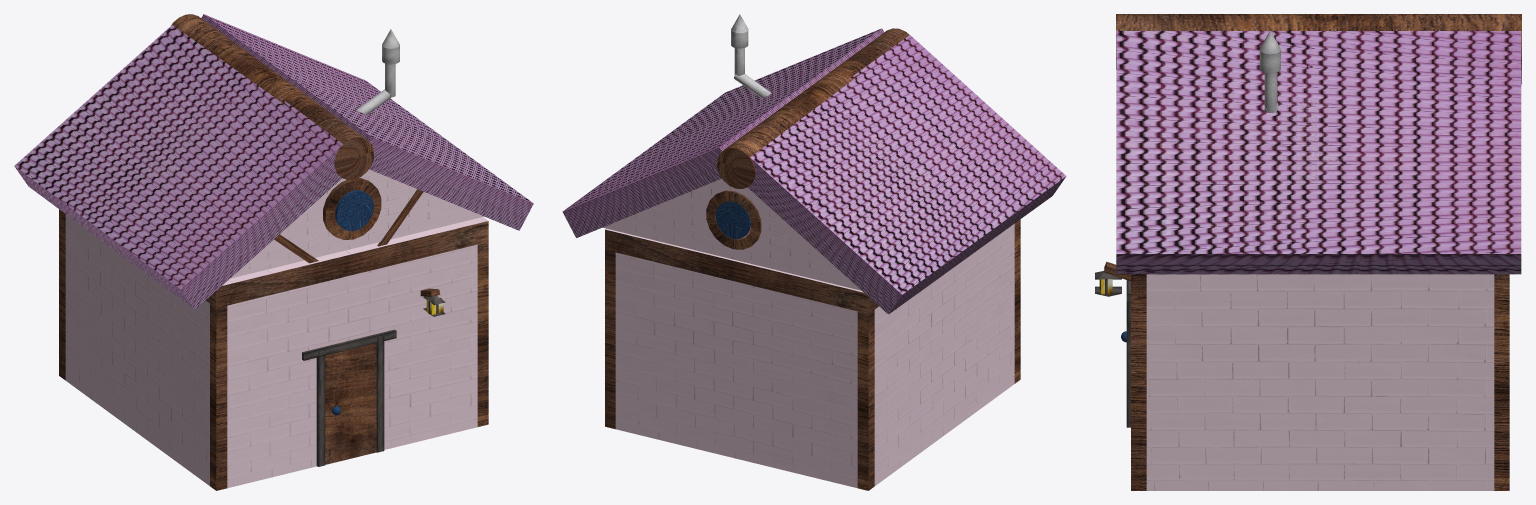
The model's file is CASA_HECHIZOS_NIVEL_1.fbx.
The picture shows the model from 3 angles, left to right: view 1: azimuth 30°, elevation 25°; view 2: azimuth 150°, elevation 25°; view 3: azimuth 270°, elevation 25°; orthographic projection. The views are drawn at different scales.
Visible parts, largest first — view 1: Box001, Box004, Box003, Box002, Box005, Cylinder002, Tube002, Cylinder001, Box007, Box006, Box008; view 2: Box001, Box004, Box003, Box002, Cylinder002, Tube001, Cylinder001; view 3: Box003, Box001, Cylinder002, Box006, Cylinder004.
Part boxes in pixels (box(x1,y1,x2,y2)): Box001: box(59, 209, 488, 490); Box004: box(14, 25, 357, 309); Box003: box(201, 14, 533, 230); Box002: box(230, 169, 483, 278); Box005: box(325, 343, 376, 464); Cylinder002: box(171, 14, 373, 179); Tube002: box(323, 178, 381, 239); Cylinder001: box(335, 190, 373, 231); Box007: box(316, 350, 325, 466); Box006: box(376, 336, 384, 452); Box008: box(302, 329, 396, 360); Box001: box(605, 219, 1020, 490); Box004: box(748, 35, 1066, 314); Box003: box(562, 28, 884, 237); Box002: box(603, 178, 861, 290); Cylinder002: box(717, 28, 909, 188); Tube001: box(706, 190, 761, 249); Cylinder001: box(716, 201, 750, 239); Box003: box(1116, 31, 1521, 274); Box001: box(1131, 274, 1509, 490); Cylinder002: box(1116, 14, 1521, 69); Box006: box(1126, 302, 1130, 427); Cylinder004: box(1264, 72, 1277, 112).
Bounding box in the file's own units: 1.81 × 1.78 × 1.58.
